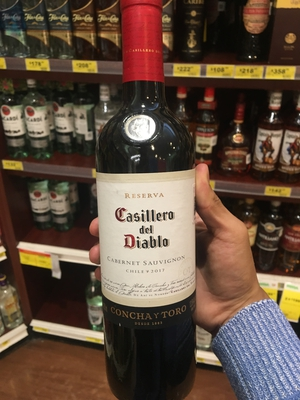casillero del diablo cabernet sauvignon: (96, 6, 206, 400)
